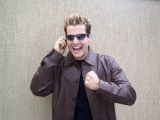male: (61, 15, 96, 63)
